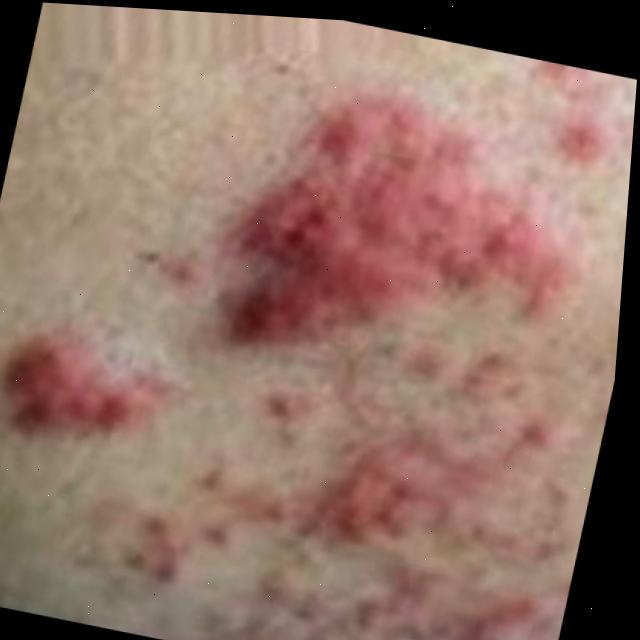Shingles: (0, 19, 639, 640)
